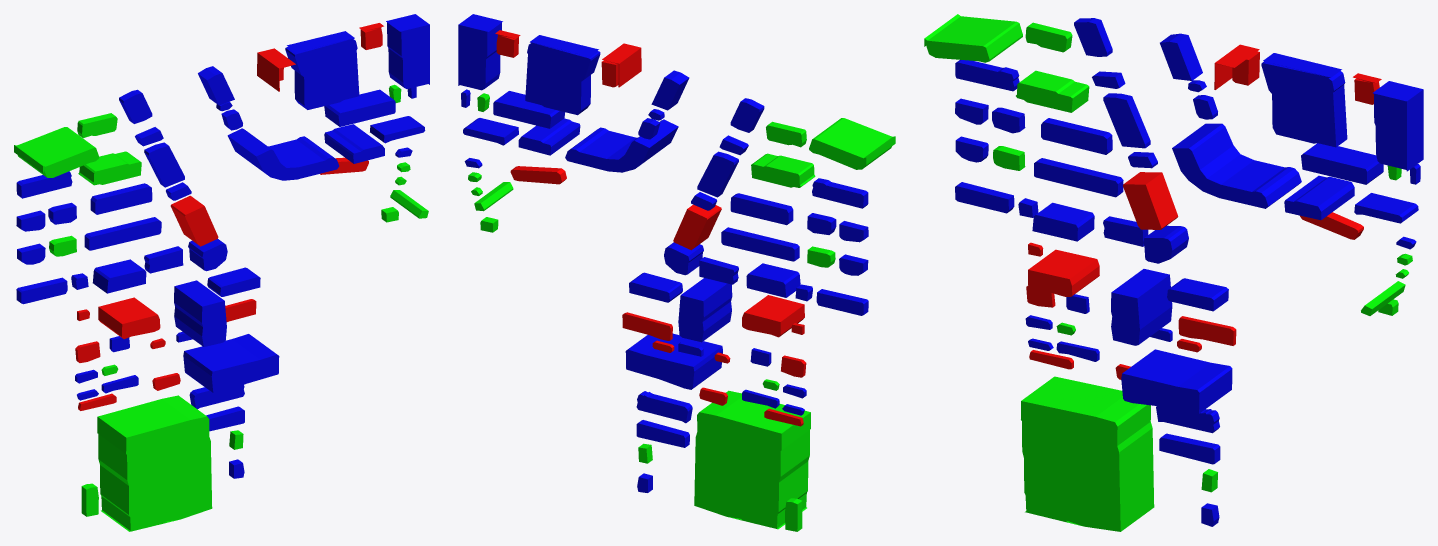
3 renders of one model, left to right at view 1: azimuth 30°, elevation 25°; view 2: azimuth 150°, elevation 25°; view 3: azimuth 330°, elevation 25°, orthographic. The views are drawn at different scales.
Parts seen in each view (by area): view 1: building_59, building_2, building_53, building_19, building_4, building_42, building_9, building_44, building_17, building_20, building_13, building_27 (+23 smaller); view 2: building_59, building_2, building_53, building_19, building_4, building_9, building_42, building_44, building_13, building_17, building_31, building_20 (+23 smaller); view 3: building_59, building_2, building_19, building_53, building_4, building_42, building_9, building_44, building_27, building_17, building_13, building_20 (+25 smaller).
Boxes of the visible parts, x1,y1,x2,y2 form: building_59: (97, 395, 212, 531); building_2: (285, 31, 359, 109); building_53: (183, 334, 279, 394); building_19: (227, 128, 339, 180); building_4: (386, 14, 429, 88); building_42: (174, 280, 226, 346); building_9: (14, 127, 99, 177); building_44: (98, 297, 160, 339); building_17: (324, 89, 395, 126); building_20: (324, 124, 384, 163); building_13: (78, 151, 141, 185); building_27: (170, 195, 218, 246); building_59: (694, 390, 810, 529); building_2: (525, 35, 600, 115); building_53: (625, 333, 722, 389); building_19: (565, 119, 678, 172); building_4: (458, 14, 502, 90); building_9: (809, 118, 895, 169); building_42: (678, 278, 732, 342); building_44: (742, 295, 804, 337); building_13: (751, 153, 815, 187); building_17: (493, 91, 564, 128); building_31: (721, 227, 799, 261); building_20: (518, 118, 580, 155); building_59: (1021, 376, 1154, 531); building_2: (1261, 53, 1347, 147); building_19: (1172, 123, 1301, 208); building_53: (1121, 349, 1232, 413); building_4: (1373, 81, 1423, 171); building_42: (1111, 269, 1172, 345); building_9: (924, 14, 1022, 62); building_44: (1028, 249, 1099, 296); building_27: (1123, 172, 1178, 229); building_17: (1301, 143, 1383, 184); building_13: (1016, 70, 1089, 112); building_20: (1284, 175, 1354, 220).
Size of the model in its own units: 2047 by 2047 by 255.
